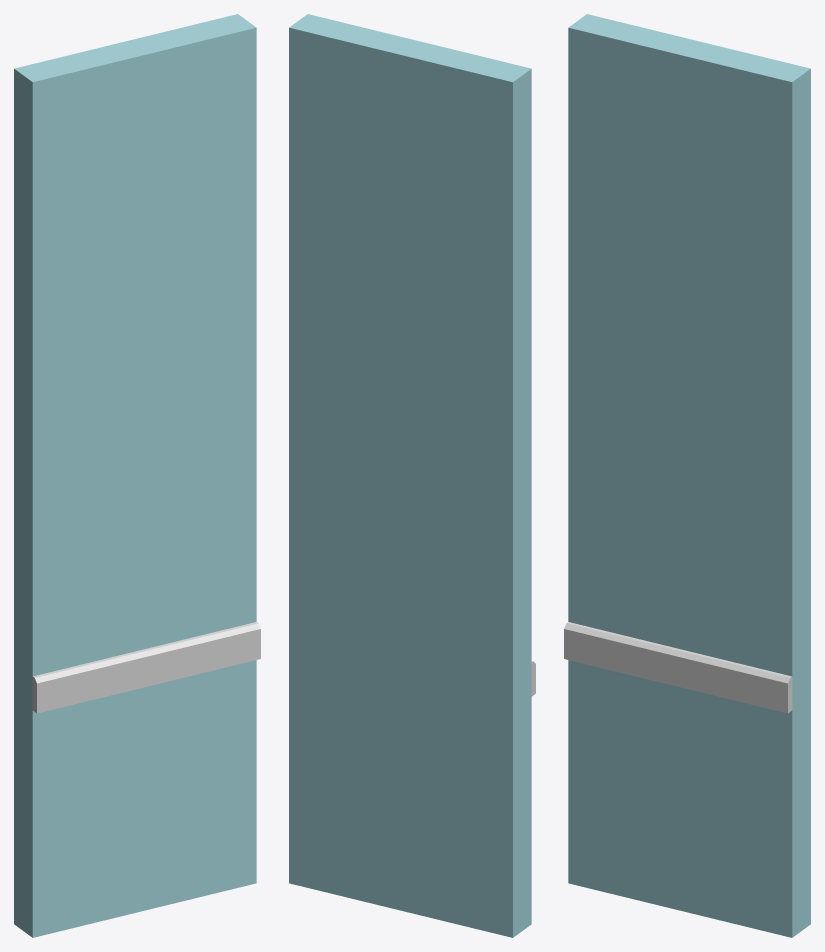
Rendered from Wall.fbx.
The picture shows the model from 3 angles, left to right: view 1: azimuth 30°, elevation 25°; view 2: azimuth 150°, elevation 25°; view 3: azimuth 330°, elevation 25°; orthographic projection.
Parts seen in each view (by area): view 1: pCube5; view 2: pCube5; view 3: pCube5.
Boxes of the visible parts, box(x1,y1,x2,y2) form: pCube5: box(14, 14, 260, 937); pCube5: box(289, 14, 535, 937); pCube5: box(564, 14, 810, 937).
Size of the model in its own units: 1 by 3.65 by 0.1771.
